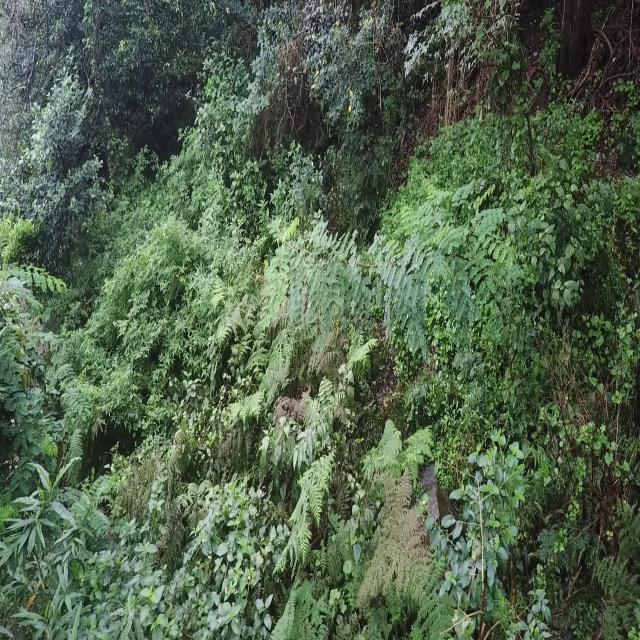Mysore-Thorn-Weed: (362, 175, 516, 366), (250, 203, 383, 344), (0, 335, 48, 503), (0, 210, 73, 294)
